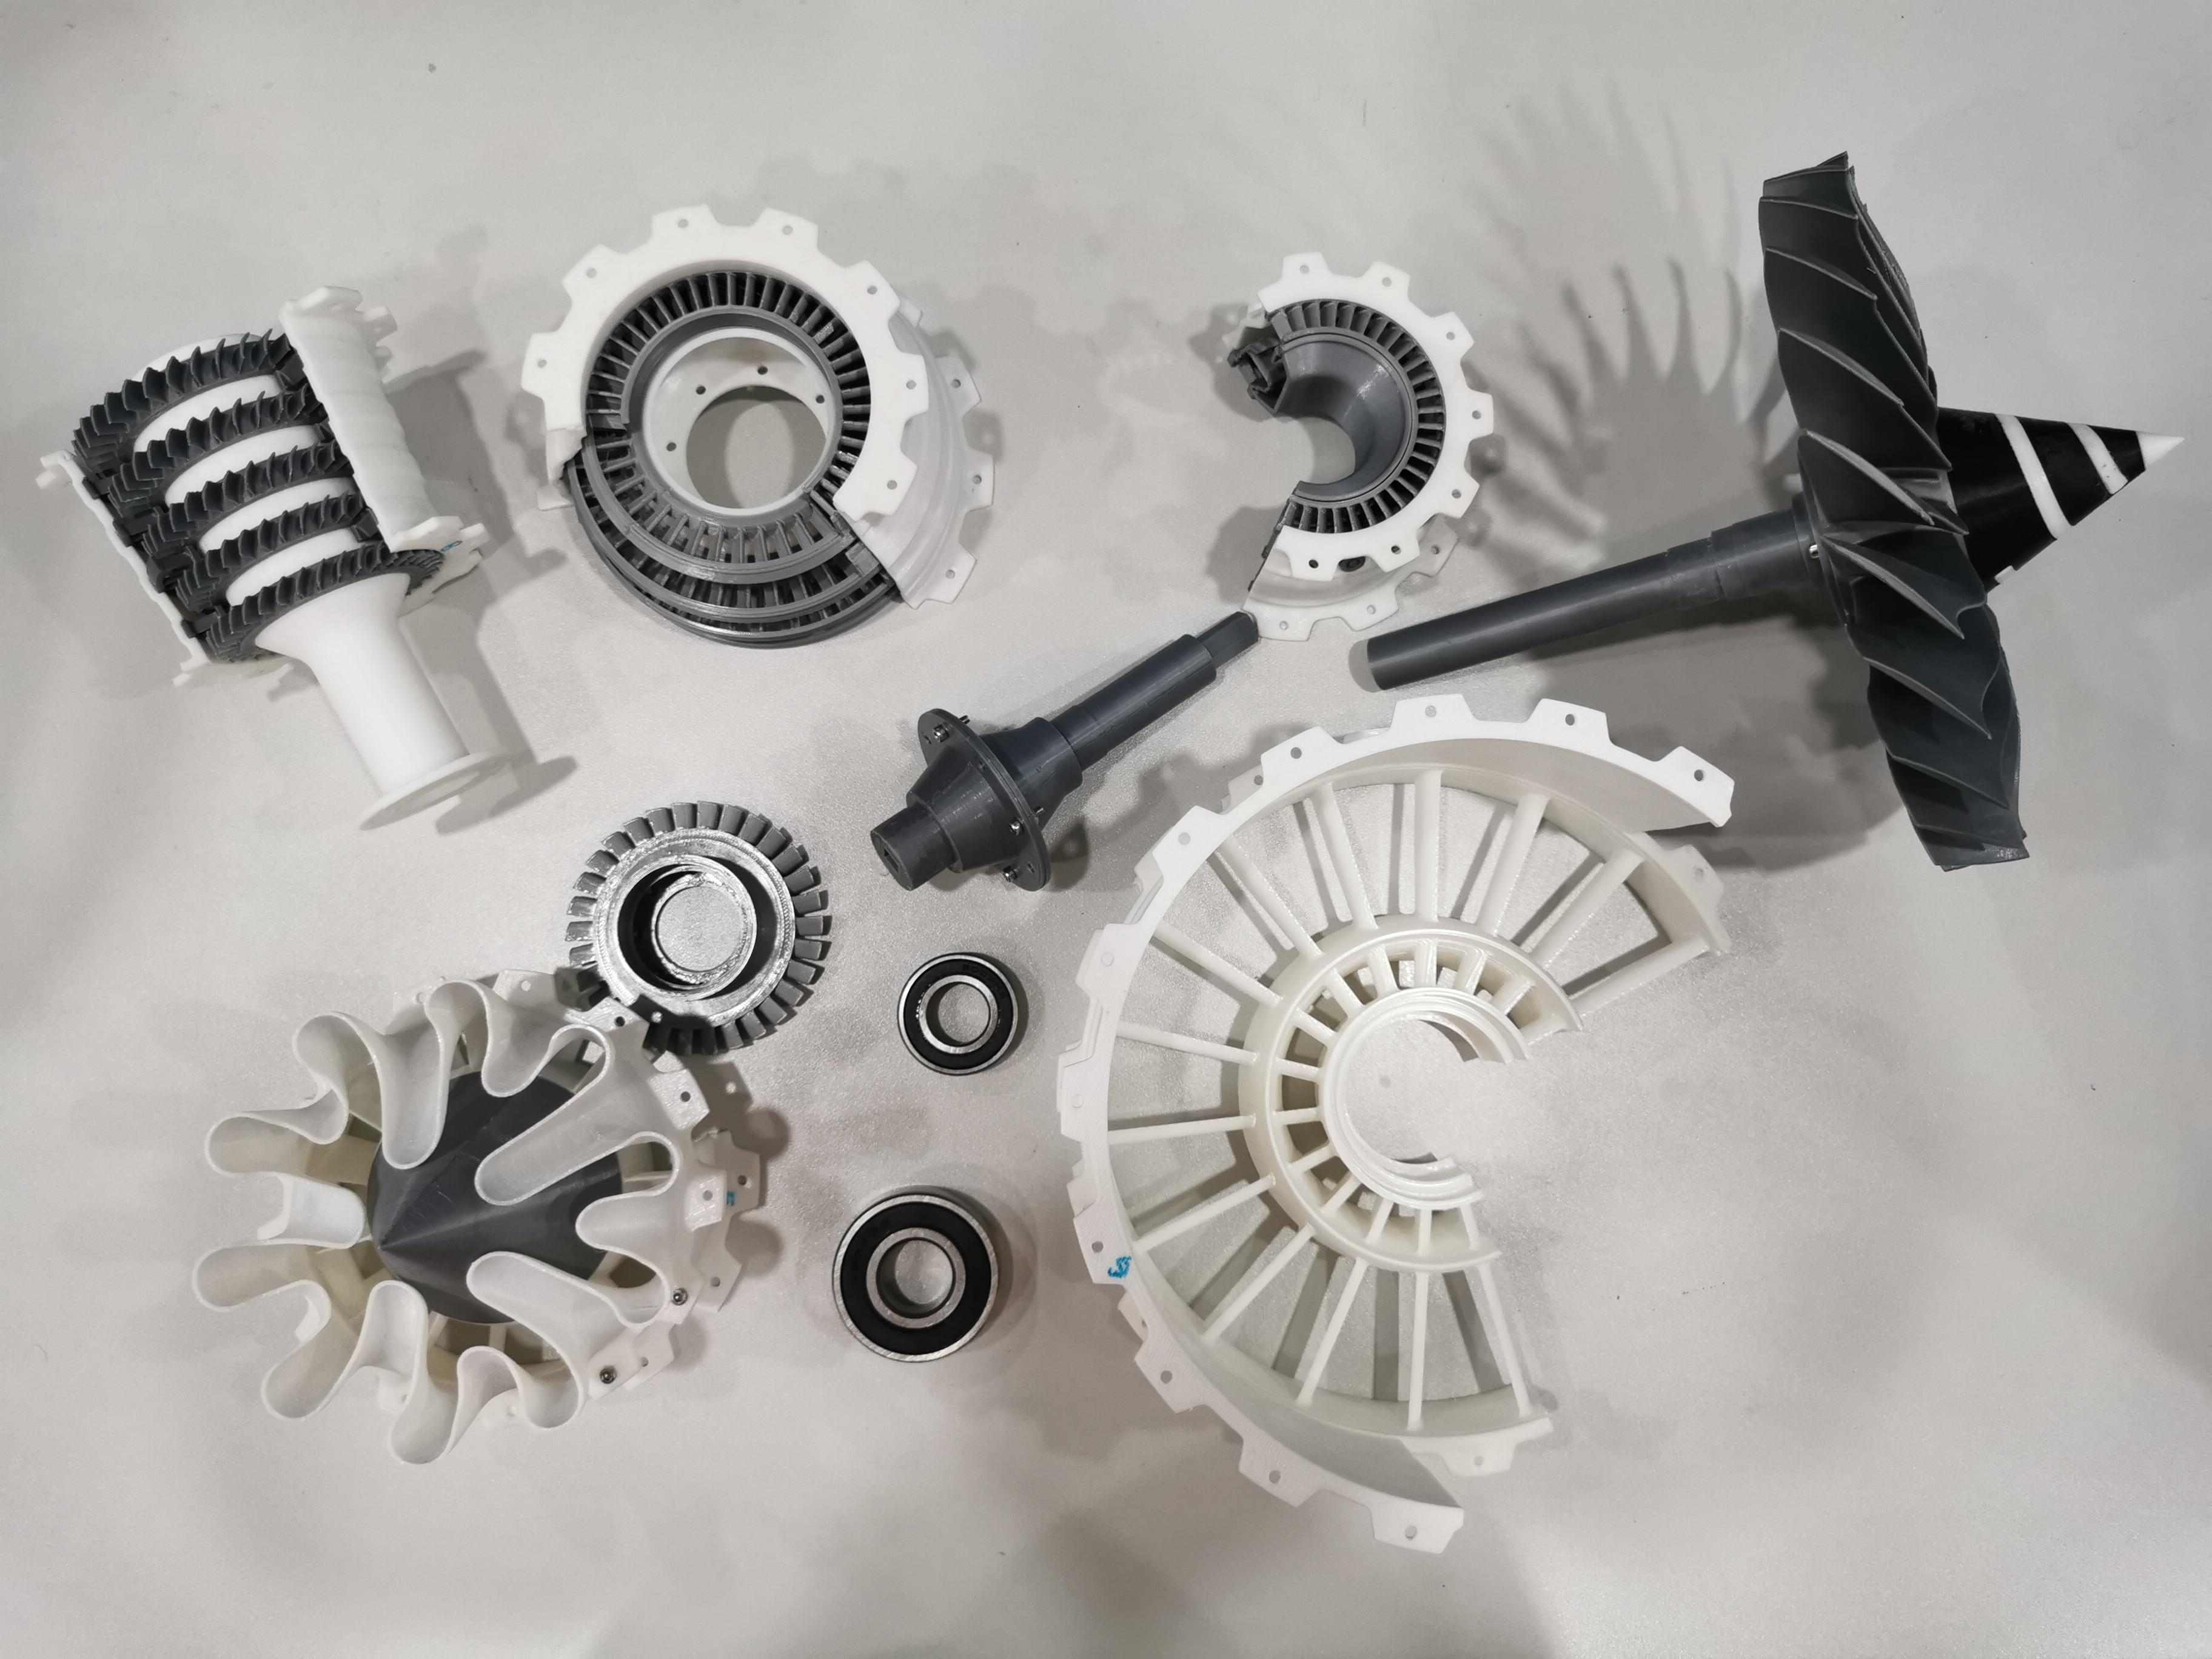Bearing-6003: (888, 938, 1035, 1087)
Bearing-6204: (819, 1152, 1012, 1399)
Combustion Section: (1205, 230, 1510, 655)
Fan Casing and Support: (1042, 685, 1756, 1565)
Fan and Low Pressure Shaft: (1352, 146, 2189, 873)
HPT Section: (552, 791, 843, 1079)
High Pressure Spool: (26, 272, 502, 854)
LPT Section: (502, 193, 1012, 664)
Low Pressure Spool: (855, 608, 1284, 911)
Nozzle Section: (169, 951, 773, 1483)
